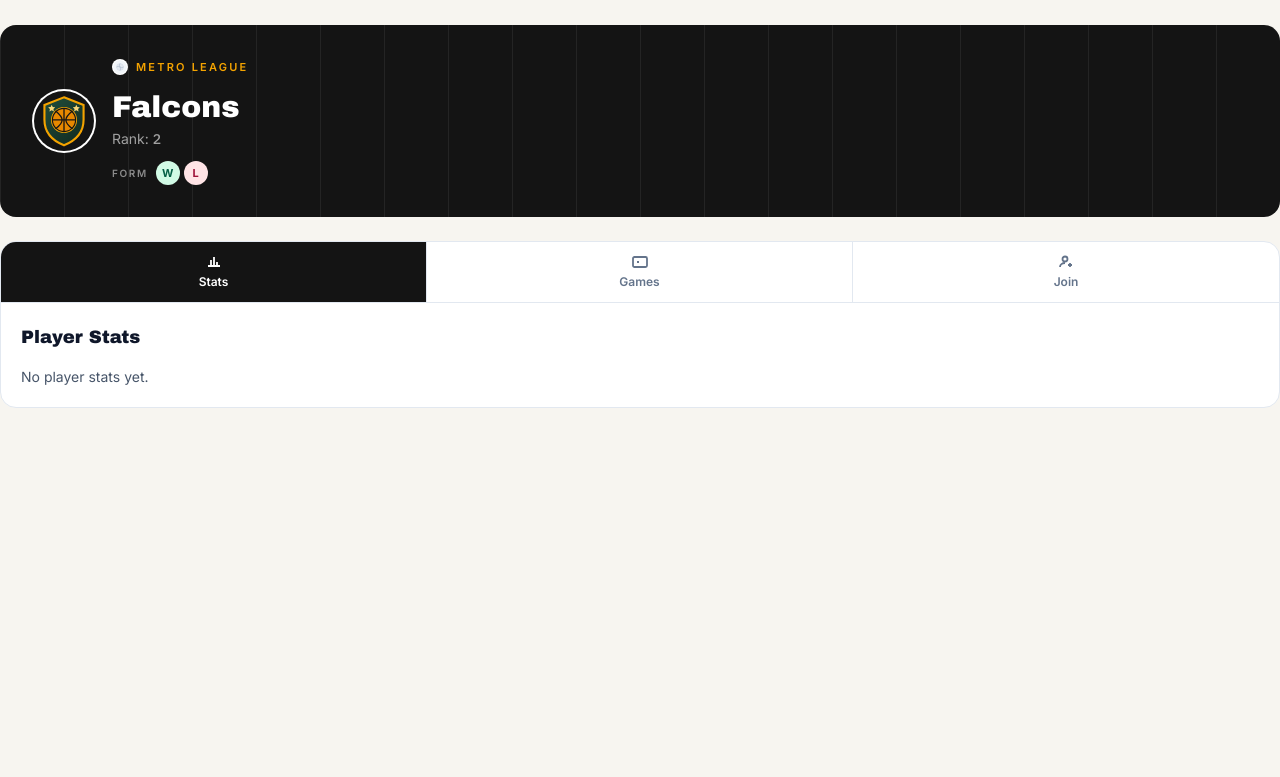
Test: PublicLeagueTeamPage › requires users to confirm a player profile is theirs before requesting it
Click the button "Join" at (1066, 272), box [853,242,1279,302]
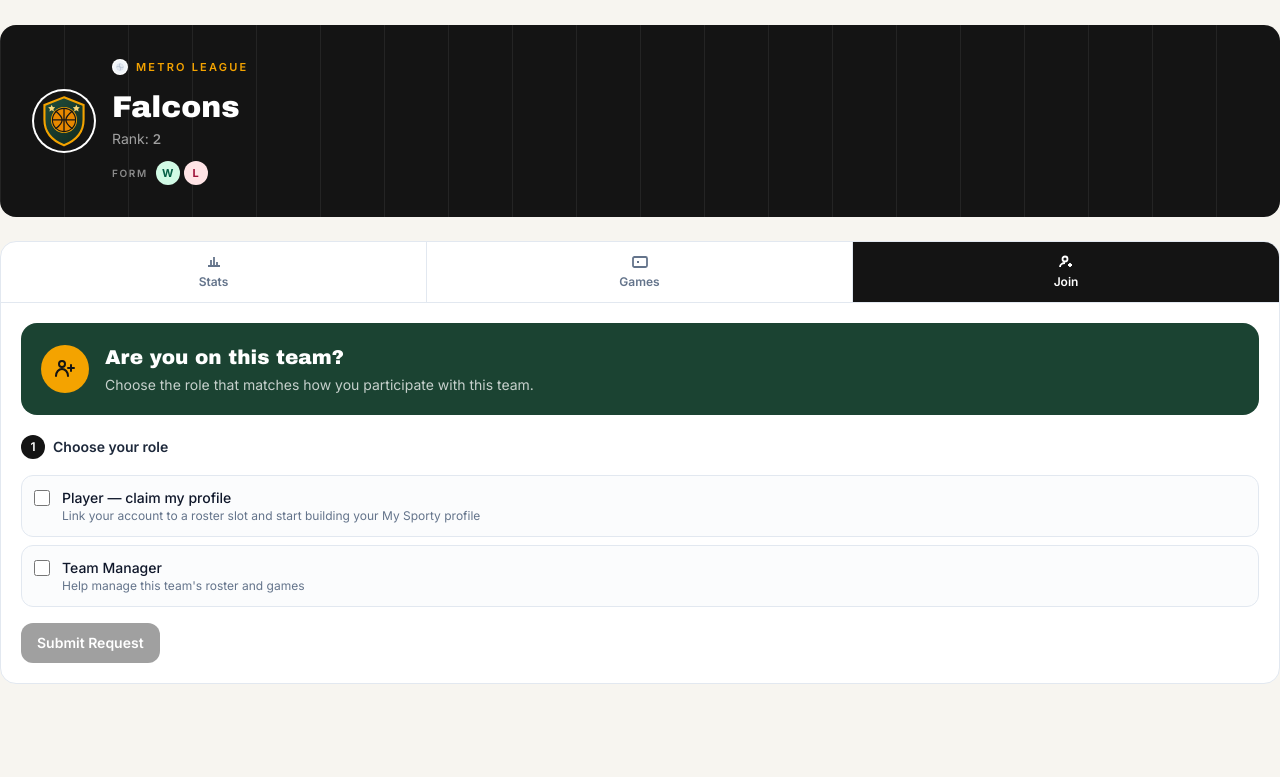
Click the checkbox labelled "Player — claim my profile" at (42, 498), box [34,490,50,506]
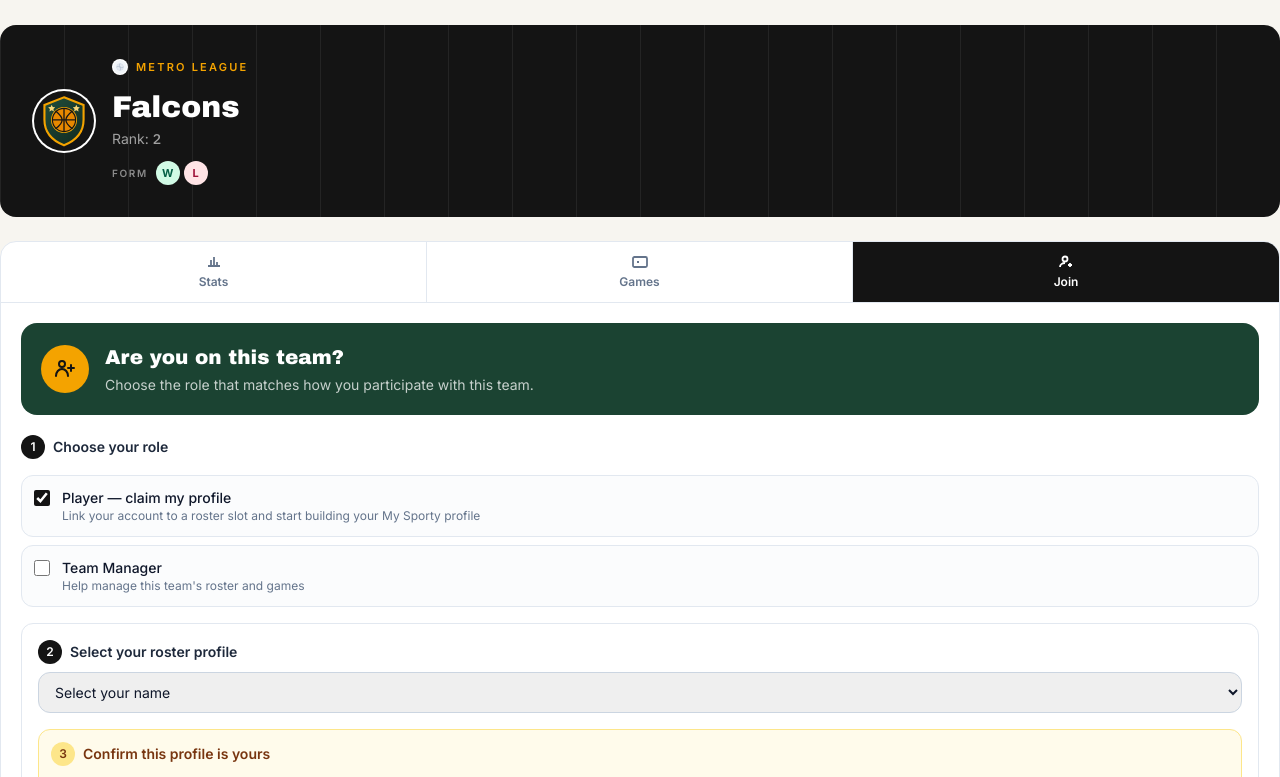
Select "Jamie Rivera" in the dropdown at (640, 692), box [38,672,1242,713]
(page scrolled)
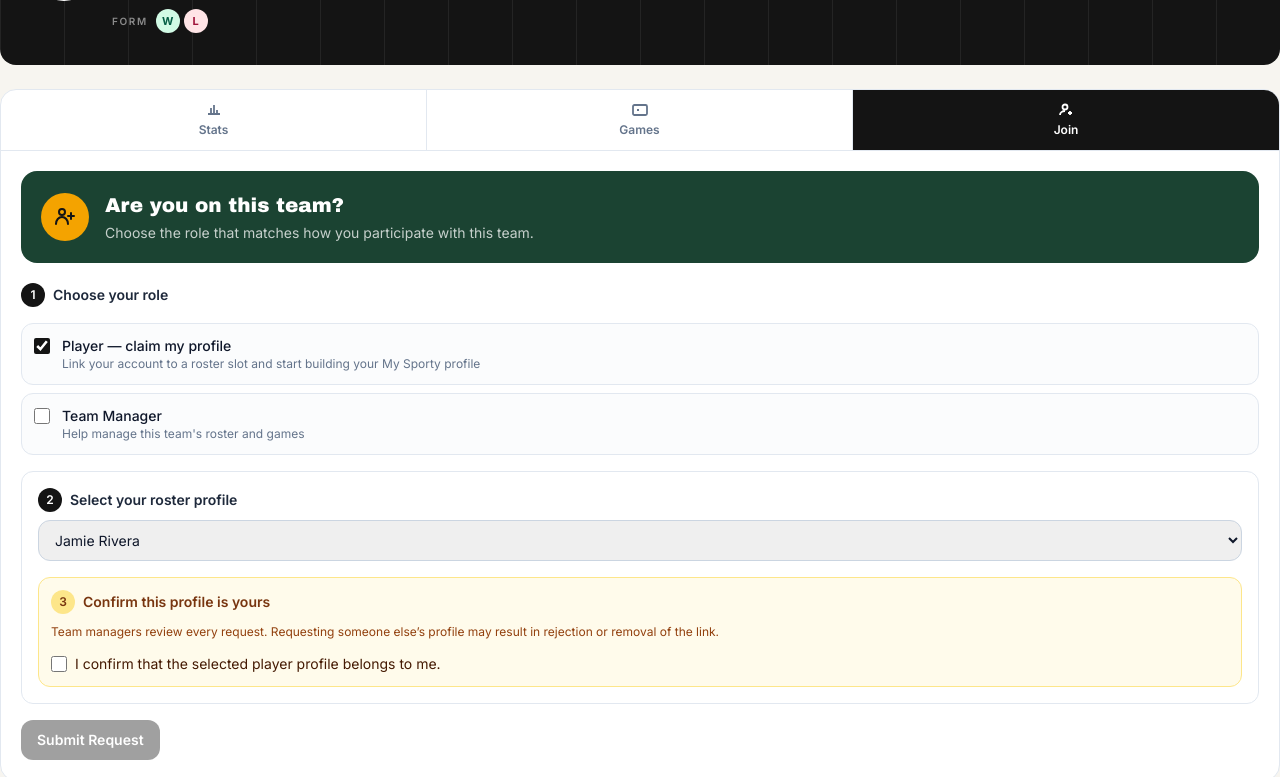
Click the checkbox named "I confirm this is my player profile" at (59, 664), box [51,656,67,672]
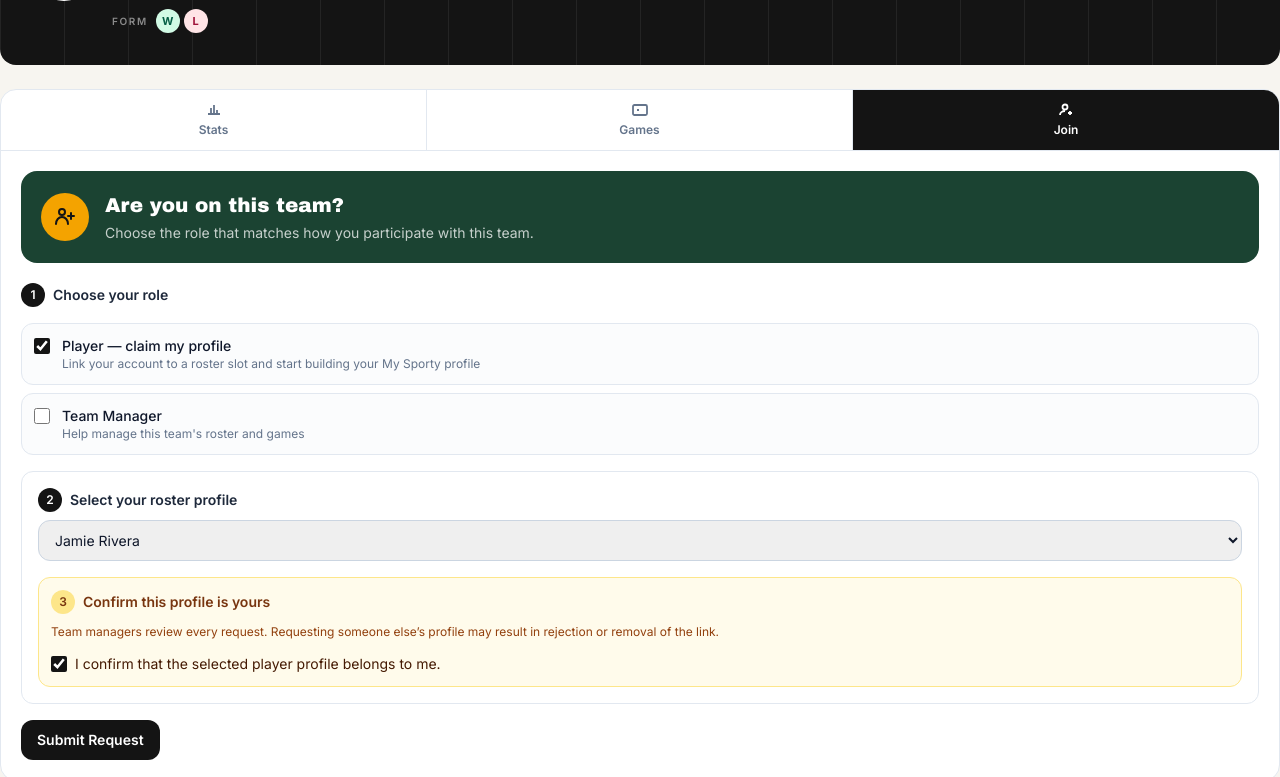
Now the button "Submit Request" is enabled, box [21,720,160,760]
